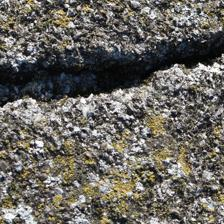Crack: (2, 11, 222, 102)
